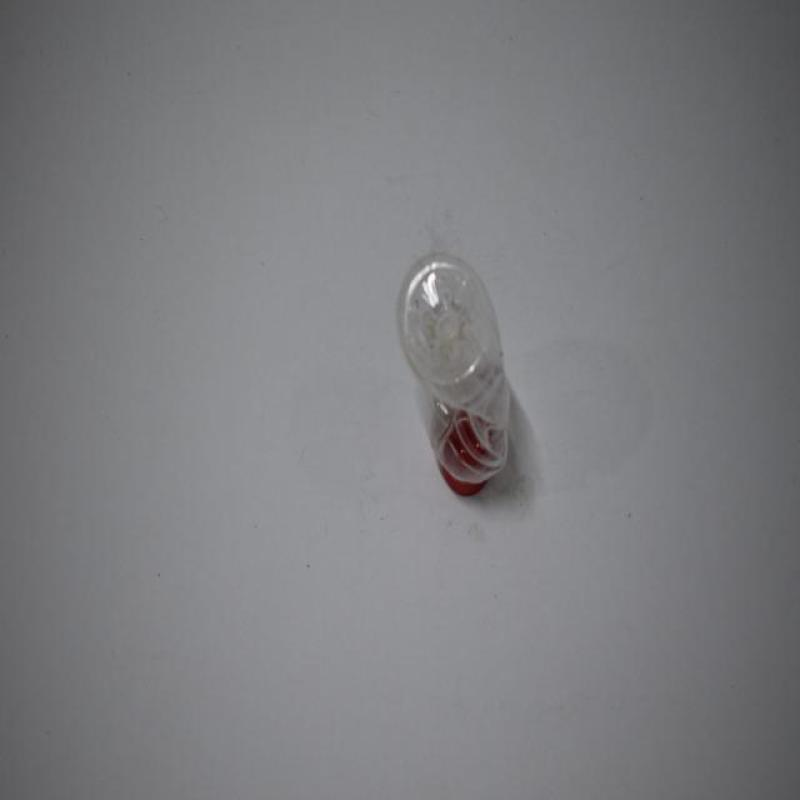botella: (394, 250, 512, 496)
